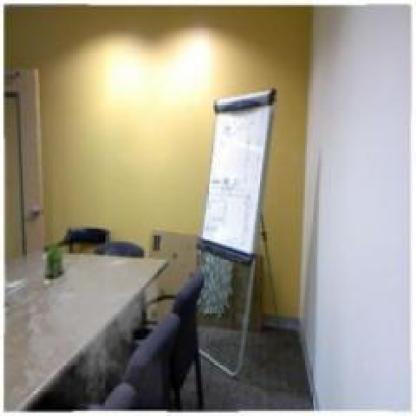Smoke: (18, 241, 164, 407)
